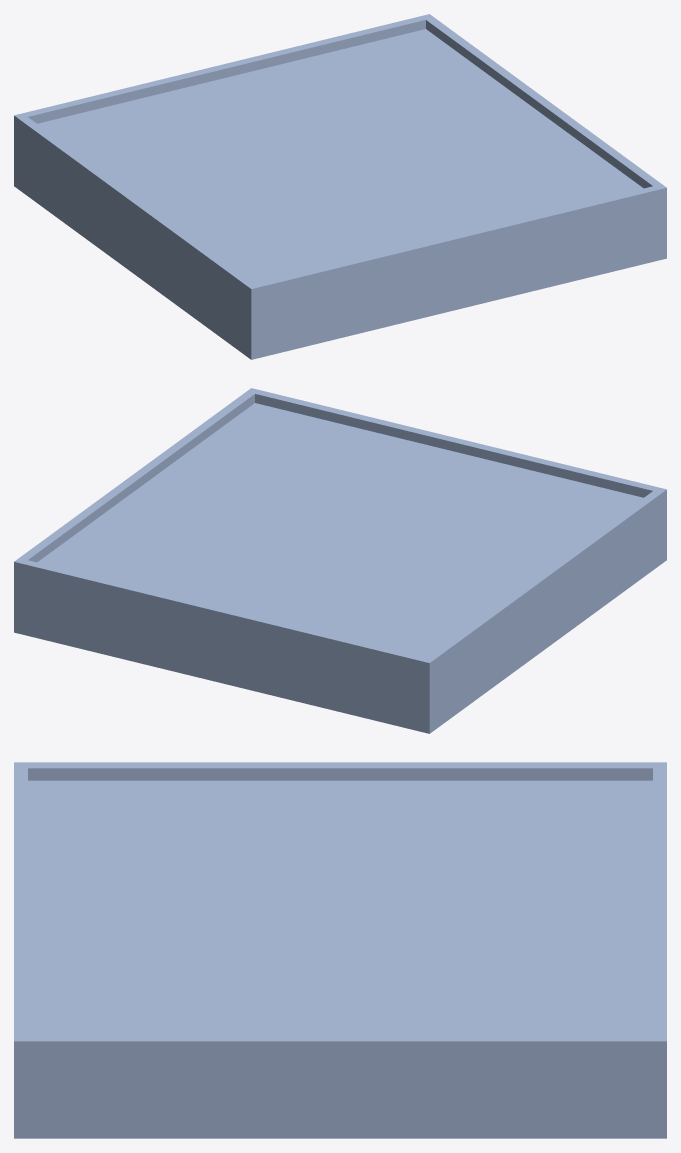
Rendered from Post_Ozone_Contact_Tank.glb.
The picture shows the model from 3 angles, top to bottom: view 1: azimuth 30°, elevation 25°; view 2: azimuth 150°, elevation 25°; view 3: azimuth 270°, elevation 25°; orthographic projection. The views are drawn at different scales.
Parts seen in each view (by area): view 1: Mesh1; view 2: Mesh1; view 3: Mesh1.
Part boxes in pixels (box(x1,y1,x2,y2)): Mesh1: box(14, 14, 666, 359); Mesh1: box(14, 388, 666, 733); Mesh1: box(14, 762, 666, 1138).
Size of the model in its own units: 38.07 by 6.2 by 37.66.
